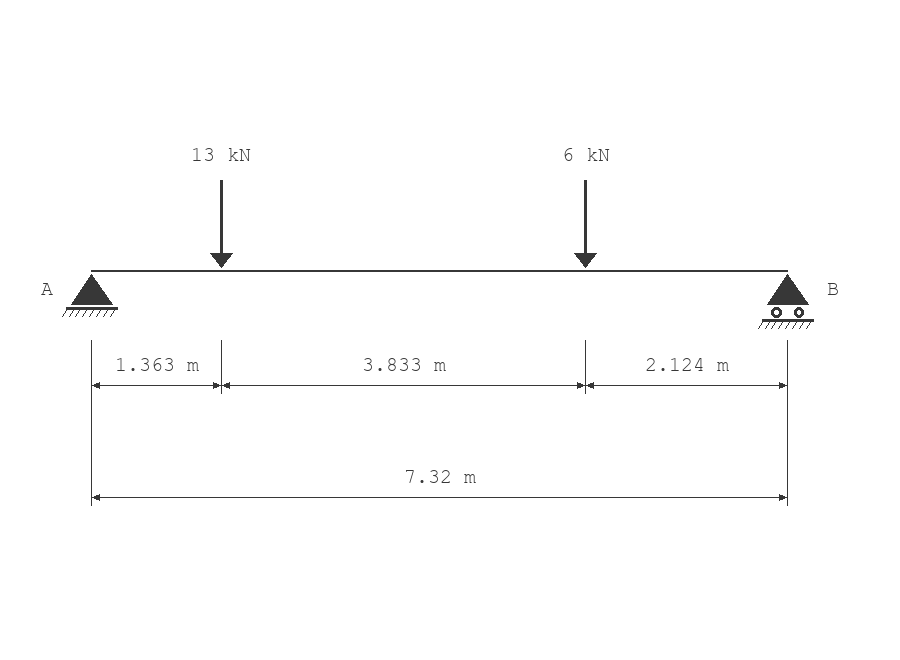pin_support: (62, 274, 118, 317)
point_load: (210, 180, 233, 268), (574, 180, 597, 268)
roller_support: (758, 274, 814, 329)
